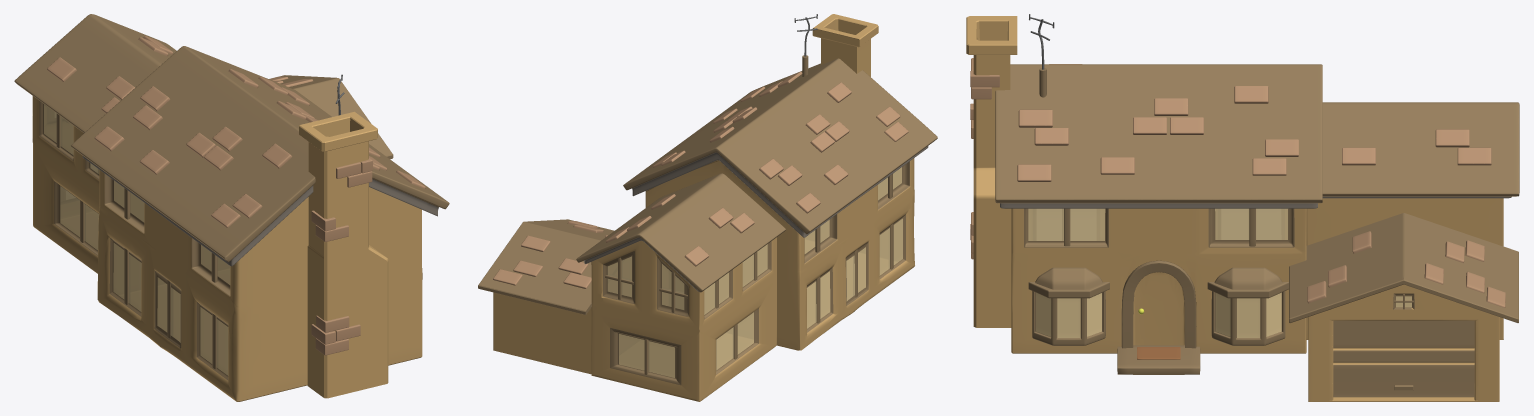
Rendered from House1.fbx.
The picture shows the model from 3 angles, left to right: view 1: azimuth 30°, elevation 25°; view 2: azimuth 150°, elevation 25°; view 3: azimuth 270°, elevation 25°; orthographic projection. The views are drawn at different scales.
Parts seen in each view (by area): view 1: group15_pSphere3; view 2: group15_pSphere3; view 3: group15_pSphere3.
Boxes of the visible parts, x1,y1,x2,y2 form: group15_pSphere3: (14, 14, 449, 401); group15_pSphere3: (478, 14, 937, 401); group15_pSphere3: (966, 14, 1519, 401).
Bounding box in the file's own units: 330 × 293 × 485.
